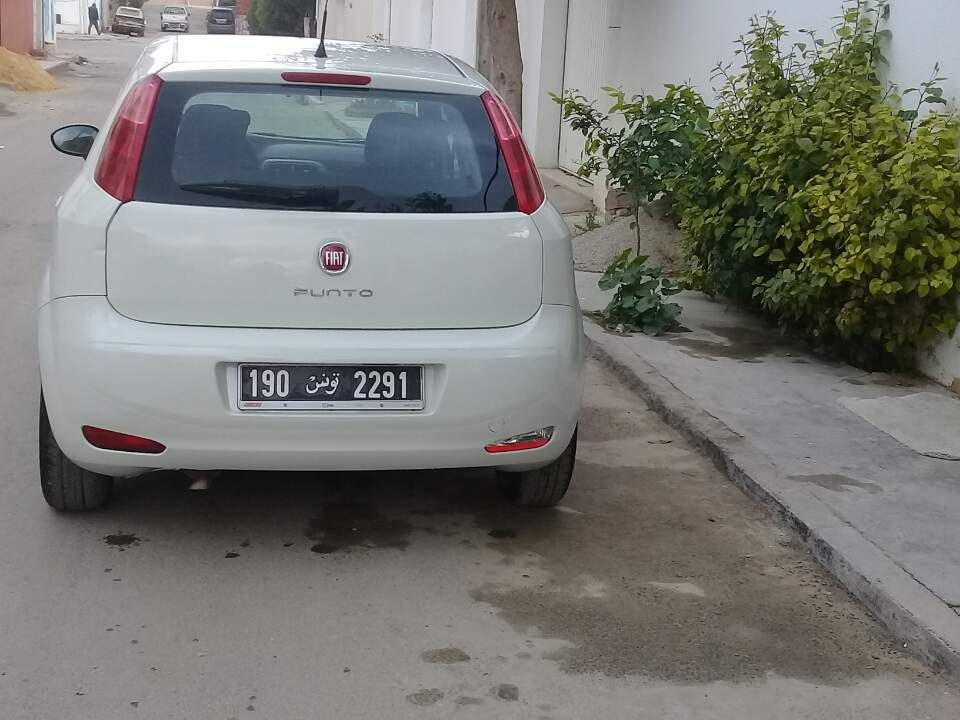LP: (236, 361, 428, 405)
